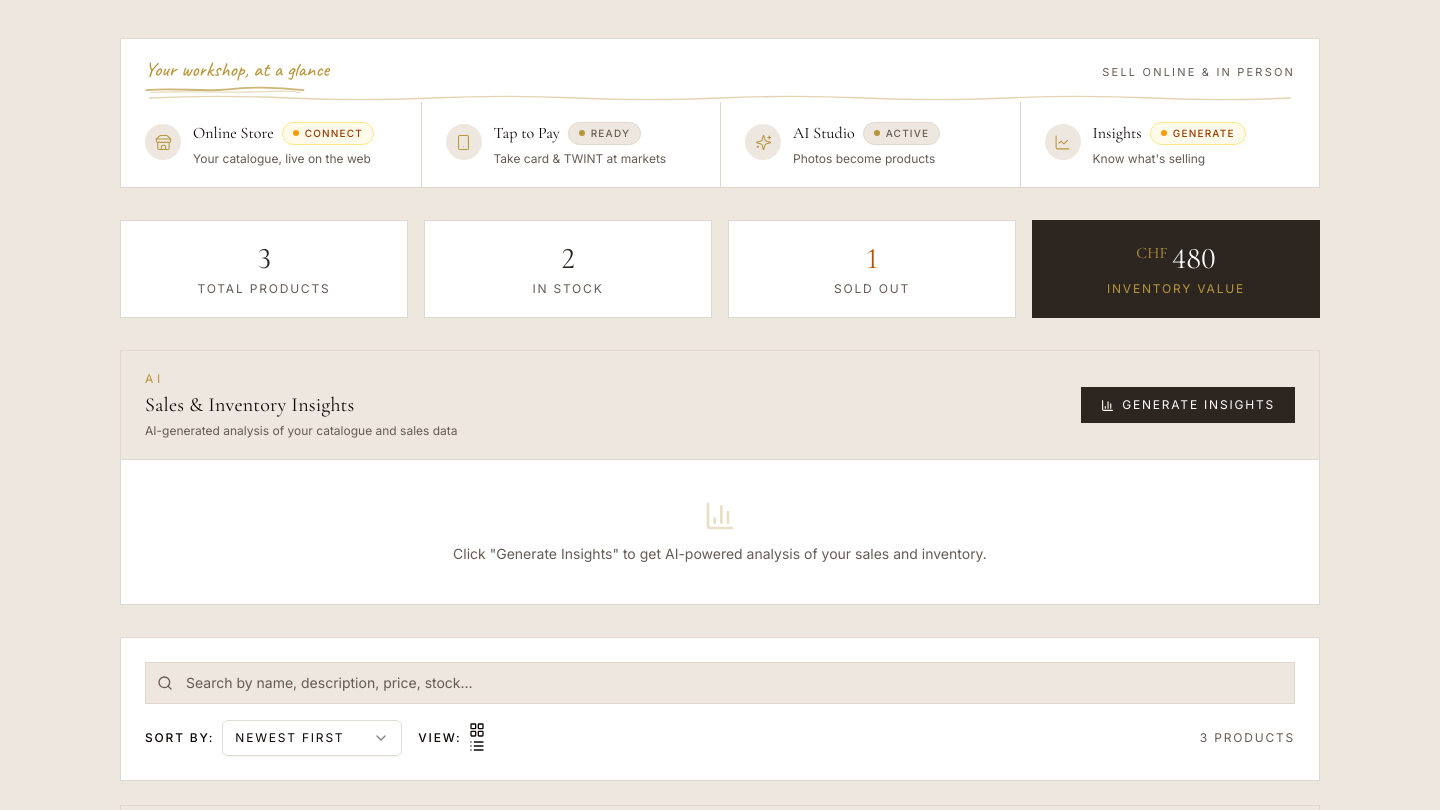
Test case: Admin page — AI insights › generates, shows, and hides insights
(page scrolled)
Expected: the text "Click \"Generate Insights\"" is shown, [453,545,987,562]
Click the button "Generate Insights" at (1188,405), box [1081,387,1295,423]
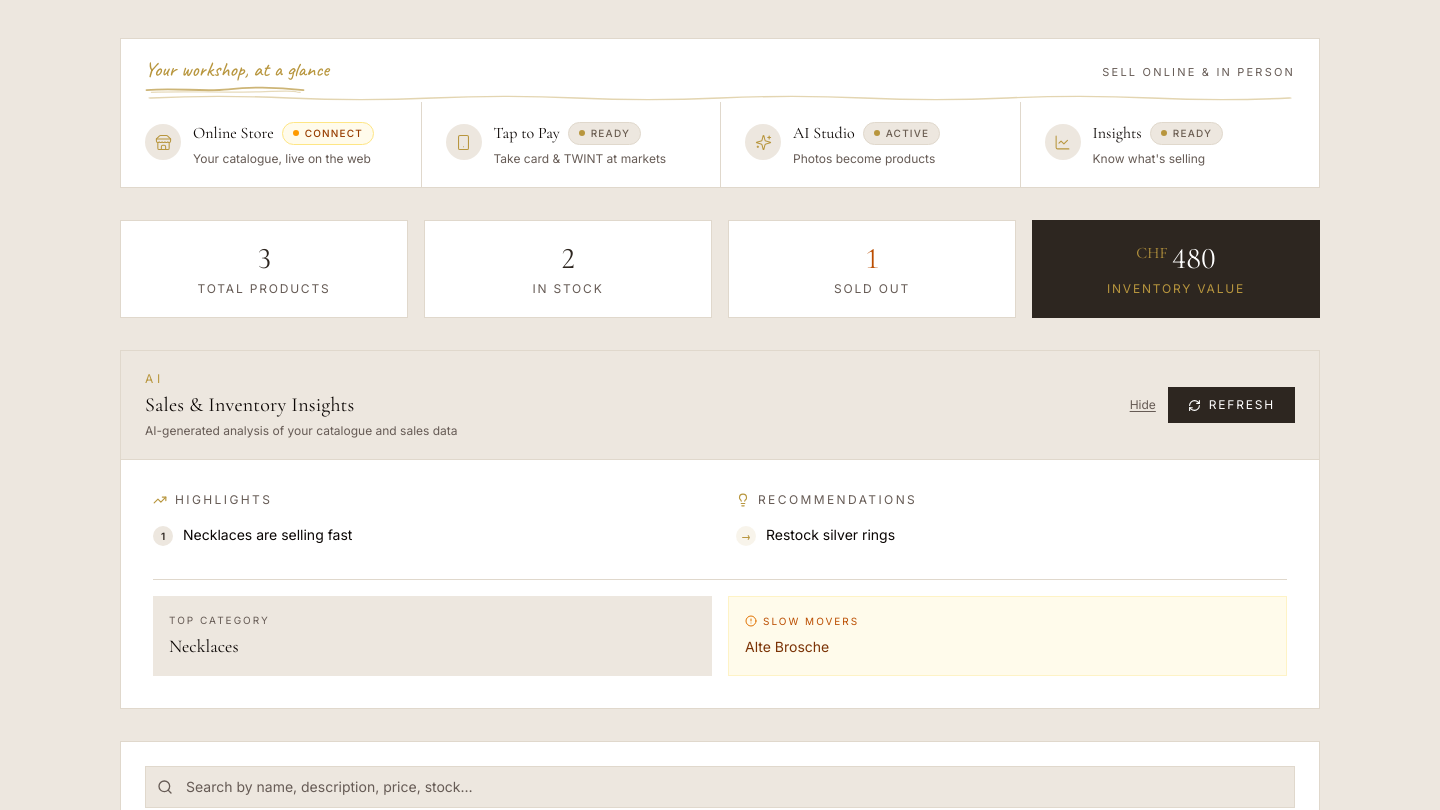
Expected: the text "Necklaces are selling fast" is shown, [183,524,352,547]
Expected: the text "Restock silver rings" is shown, [766,524,895,547]
Expected: the text "Top Category" is shown, [169,614,270,626]
Click the button "Hide" at (1143,405), box [1130,397,1156,413]
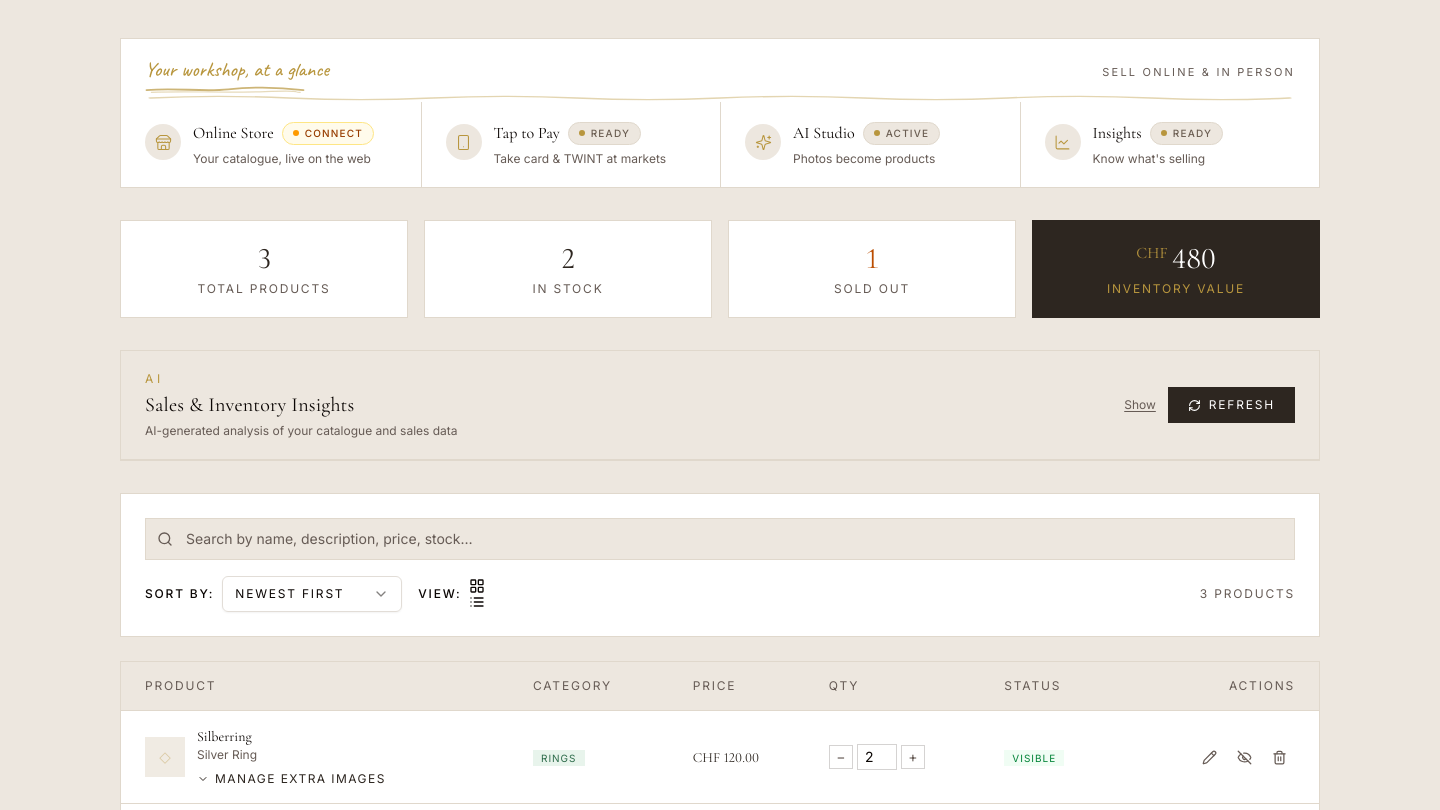
Expected: the text "Necklaces are selling fast" is gone
Click the button "Show" at (1140,405), box [1124,397,1156,413]
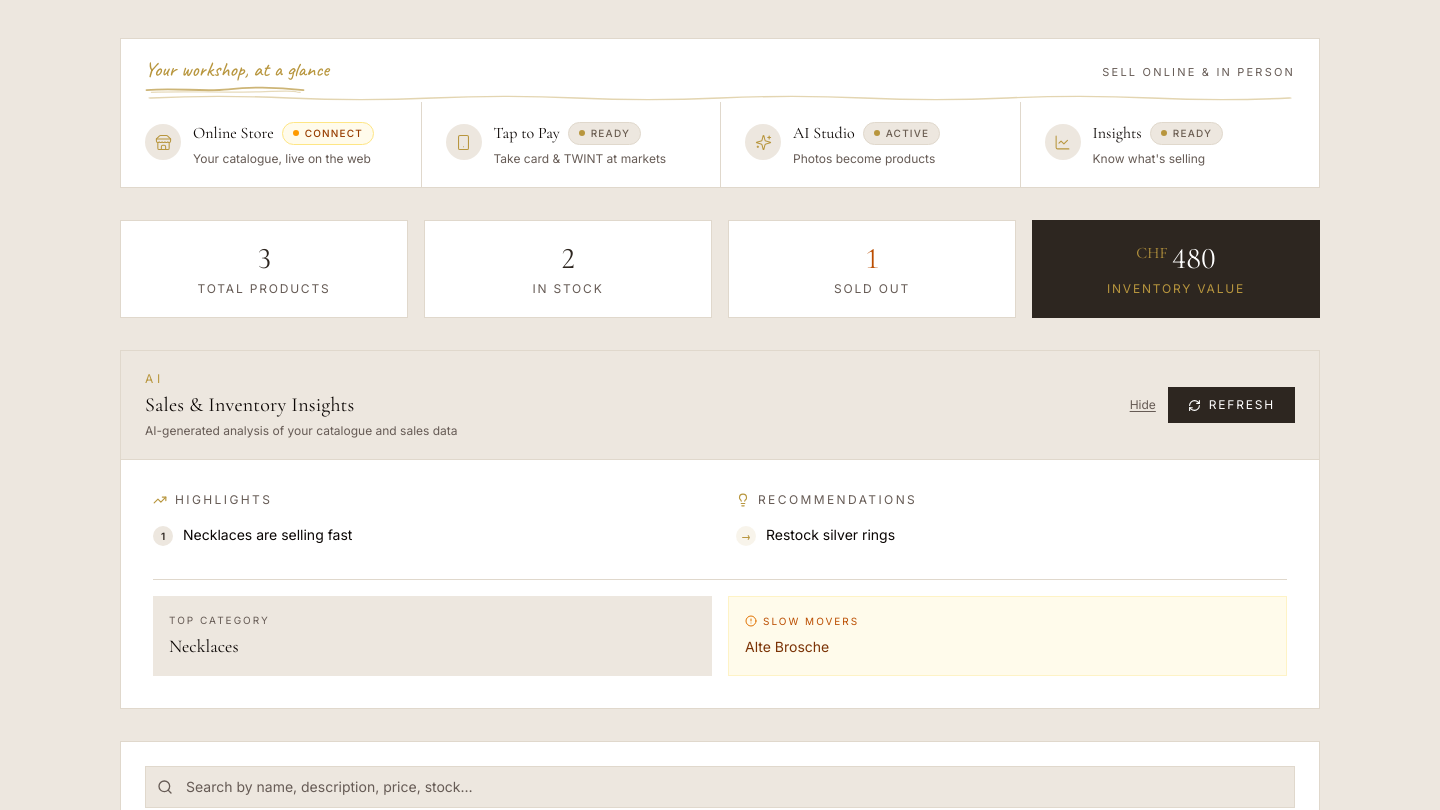
Expected: the text "Necklaces are selling fast" is shown, [183,524,352,547]
